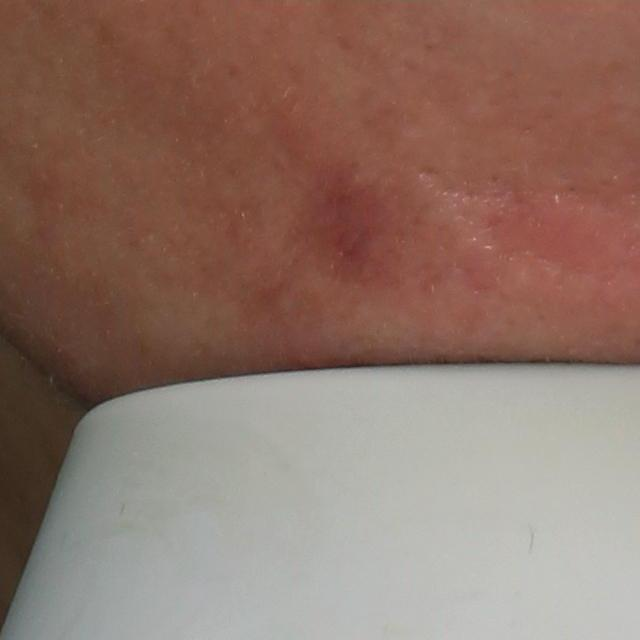hypertrophic_scar: (409, 177, 495, 264)
